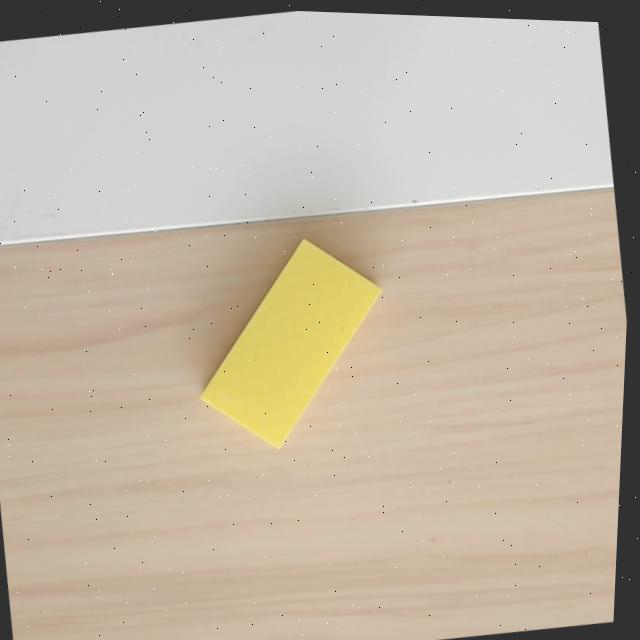Balok-Kuning-1005025: (198, 236, 385, 451)
